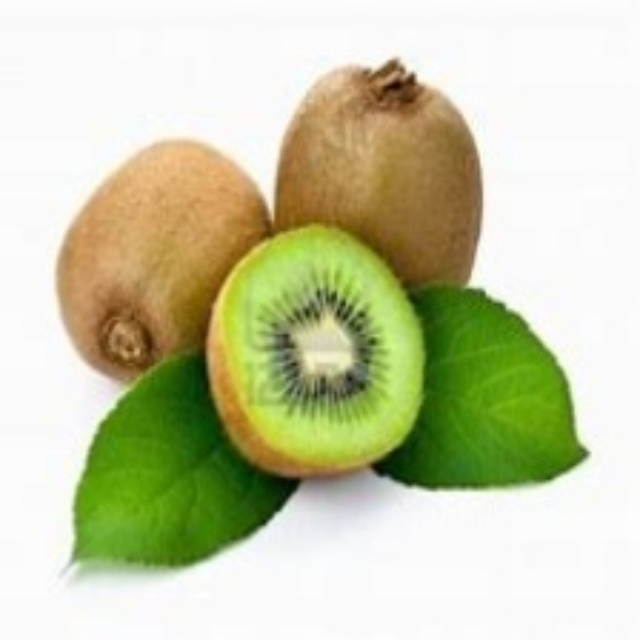kiwi: (208, 220, 428, 479), (270, 59, 494, 307), (50, 139, 284, 376)
